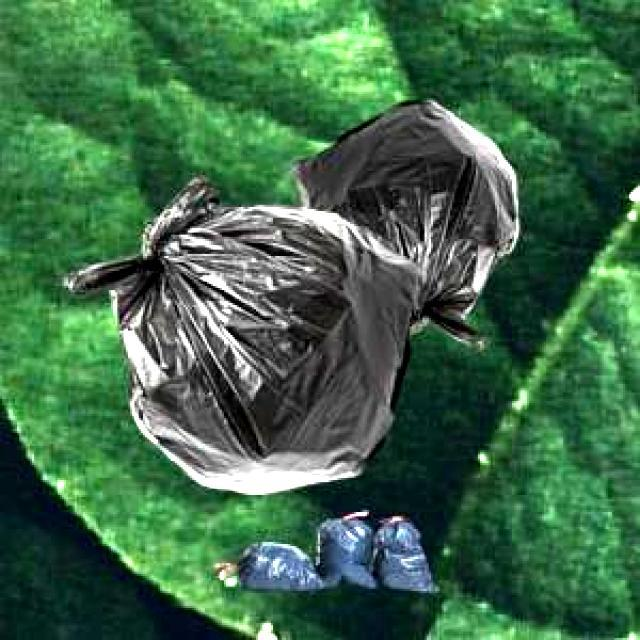Garbage_Bag: (58, 173, 426, 490), (291, 97, 515, 347), (233, 513, 434, 588)
